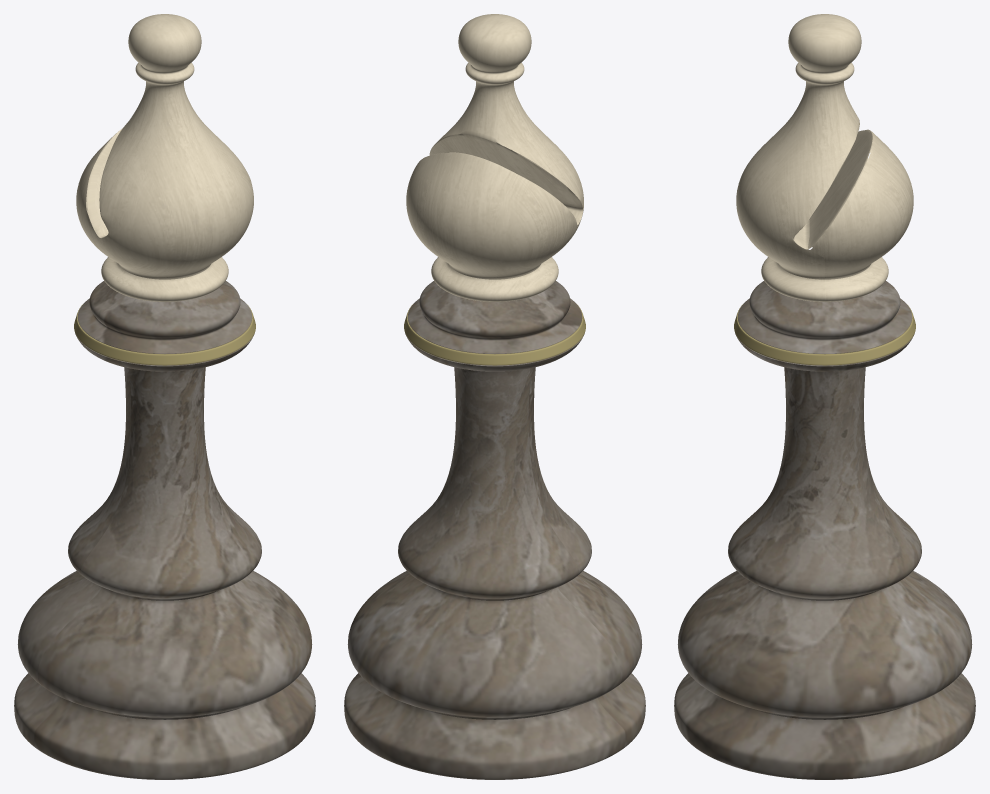
File: W_Bishop.glb
3 renders of one model, left to right at view 1: azimuth 30°, elevation 25°; view 2: azimuth 150°, elevation 25°; view 3: azimuth 270°, elevation 25°, orthographic.
Visible parts, largest first — view 1: Bishop_W1; view 2: Bishop_W1; view 3: Bishop_W1.
Part boxes in pixels (box(x1,y1,x2,y2)): Bishop_W1: box(14, 14, 315, 779); Bishop_W1: box(344, 14, 645, 779); Bishop_W1: box(674, 14, 975, 779).
Bounding box in the file's own units: 0.0486 × 0.124 × 0.0486.
1 material, 1 textured.
